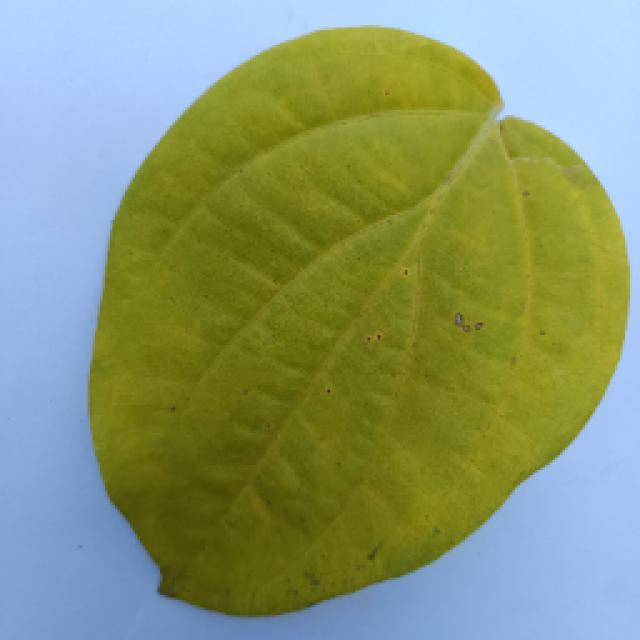slow-decline: (45, 40, 620, 625)
